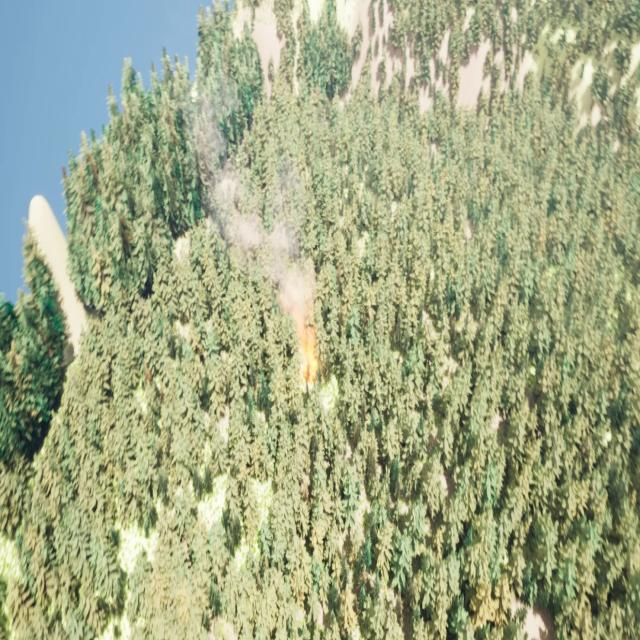fire: (296, 323, 325, 392)
smoke: (198, 104, 320, 327)
